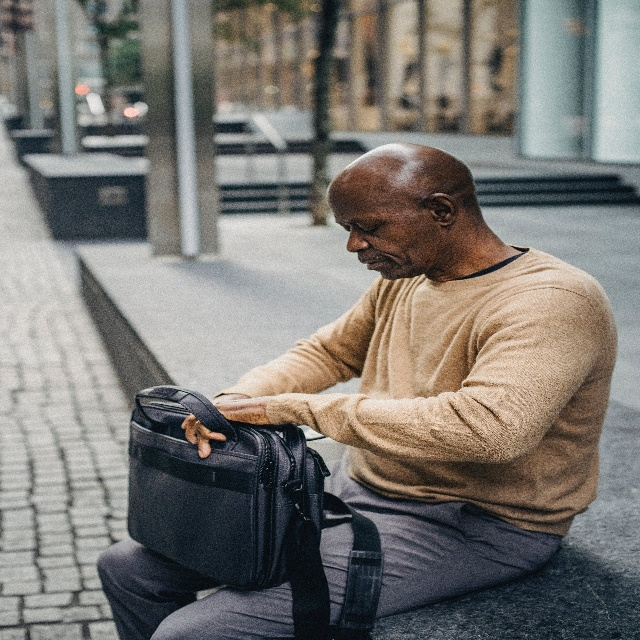Sin_guantes: (181, 396, 273, 460)
